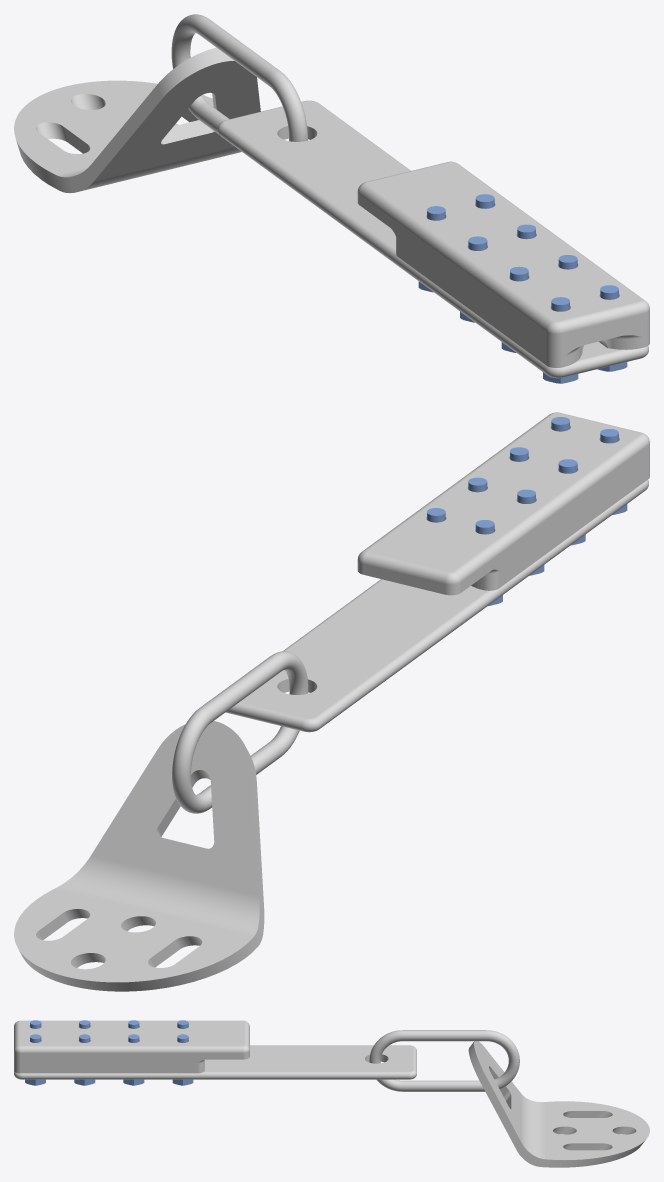
File: LongRange.glb
3 renders of one model, top to bottom at view 1: azimuth 30°, elevation 25°; view 2: azimuth 150°, elevation 25°; view 3: azimuth 270°, elevation 25°, orthographic. The views are drawn at different scales.
Parts seen in each view (by area): view 1: 20220214_MAC_100, A-Fix, 20220216_INOX_100, maillon; view 2: A-Fix, 20220214_MAC_100, 20220216_INOX_100, maillon; view 3: 20220214_MAC_100, A-Fix, 20220216_INOX_100, maillon.
Boxes of the visible parts, left/top/right/bottom form: 20220214_MAC_100: left=357, top=161, right=649, bottom=367; A-Fix: left=14, top=47, right=260, bottom=193; 20220216_INOX_100: left=217, top=100, right=648, bottom=378; maillon: left=171, top=14, right=307, bottom=141; A-Fix: left=14, top=721, right=264, bottom=991; 20220214_MAC_100: left=357, top=412, right=649, bottom=595; 20220216_INOX_100: left=225, top=480, right=648, bottom=732; maillon: left=172, top=651, right=308, bottom=813; 20220214_MAC_100: left=14, top=1020, right=249, bottom=1073; A-Fix: left=468, top=1041, right=649, bottom=1167; 20220216_INOX_100: left=14, top=1045, right=416, bottom=1079; maillon: left=369, top=1030, right=519, bottom=1091.
Size of the model in its own units: 0.1 by 0.086 by 0.4563.
